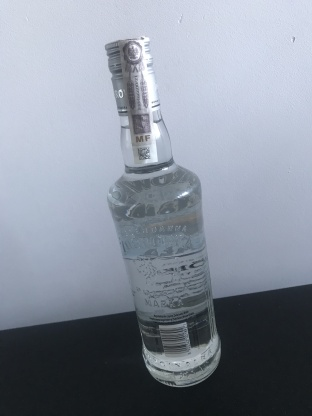nakretka: (103, 32, 162, 119)
